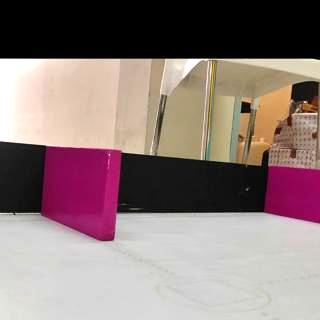xparking: (46, 150, 116, 240), (267, 170, 320, 223)
